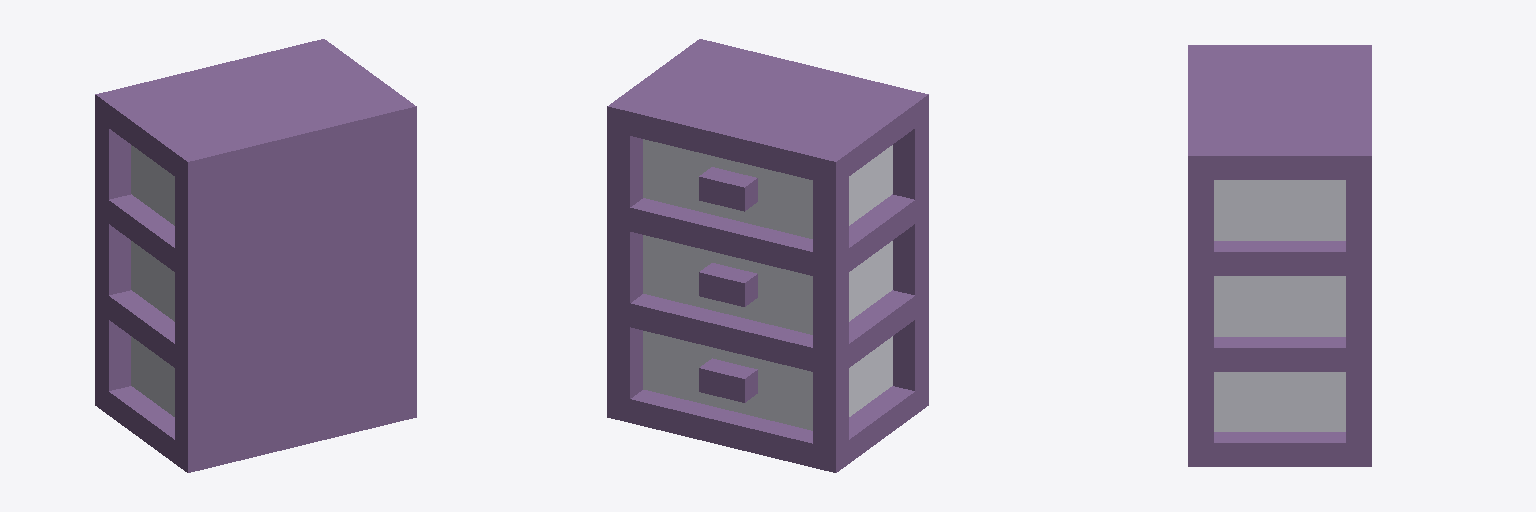
3 views of the same model, side by side, from view 1: azimuth 30°, elevation 25°; view 2: azimuth 150°, elevation 25°; view 3: azimuth 270°, elevation 25° (orthographic).
Parts seen in each view (by area): view 1: object 1; view 2: object 1; view 3: object 1.
Boxes of the visible parts, x1,y1,x2,y2 form: object 1: [95, 39, 416, 472]; object 1: [607, 39, 928, 472]; object 1: [1188, 45, 1371, 466].
Bounding box in the file's own units: 1 × 1.3 × 0.7.
Materials: 1 (1 with a texture image).